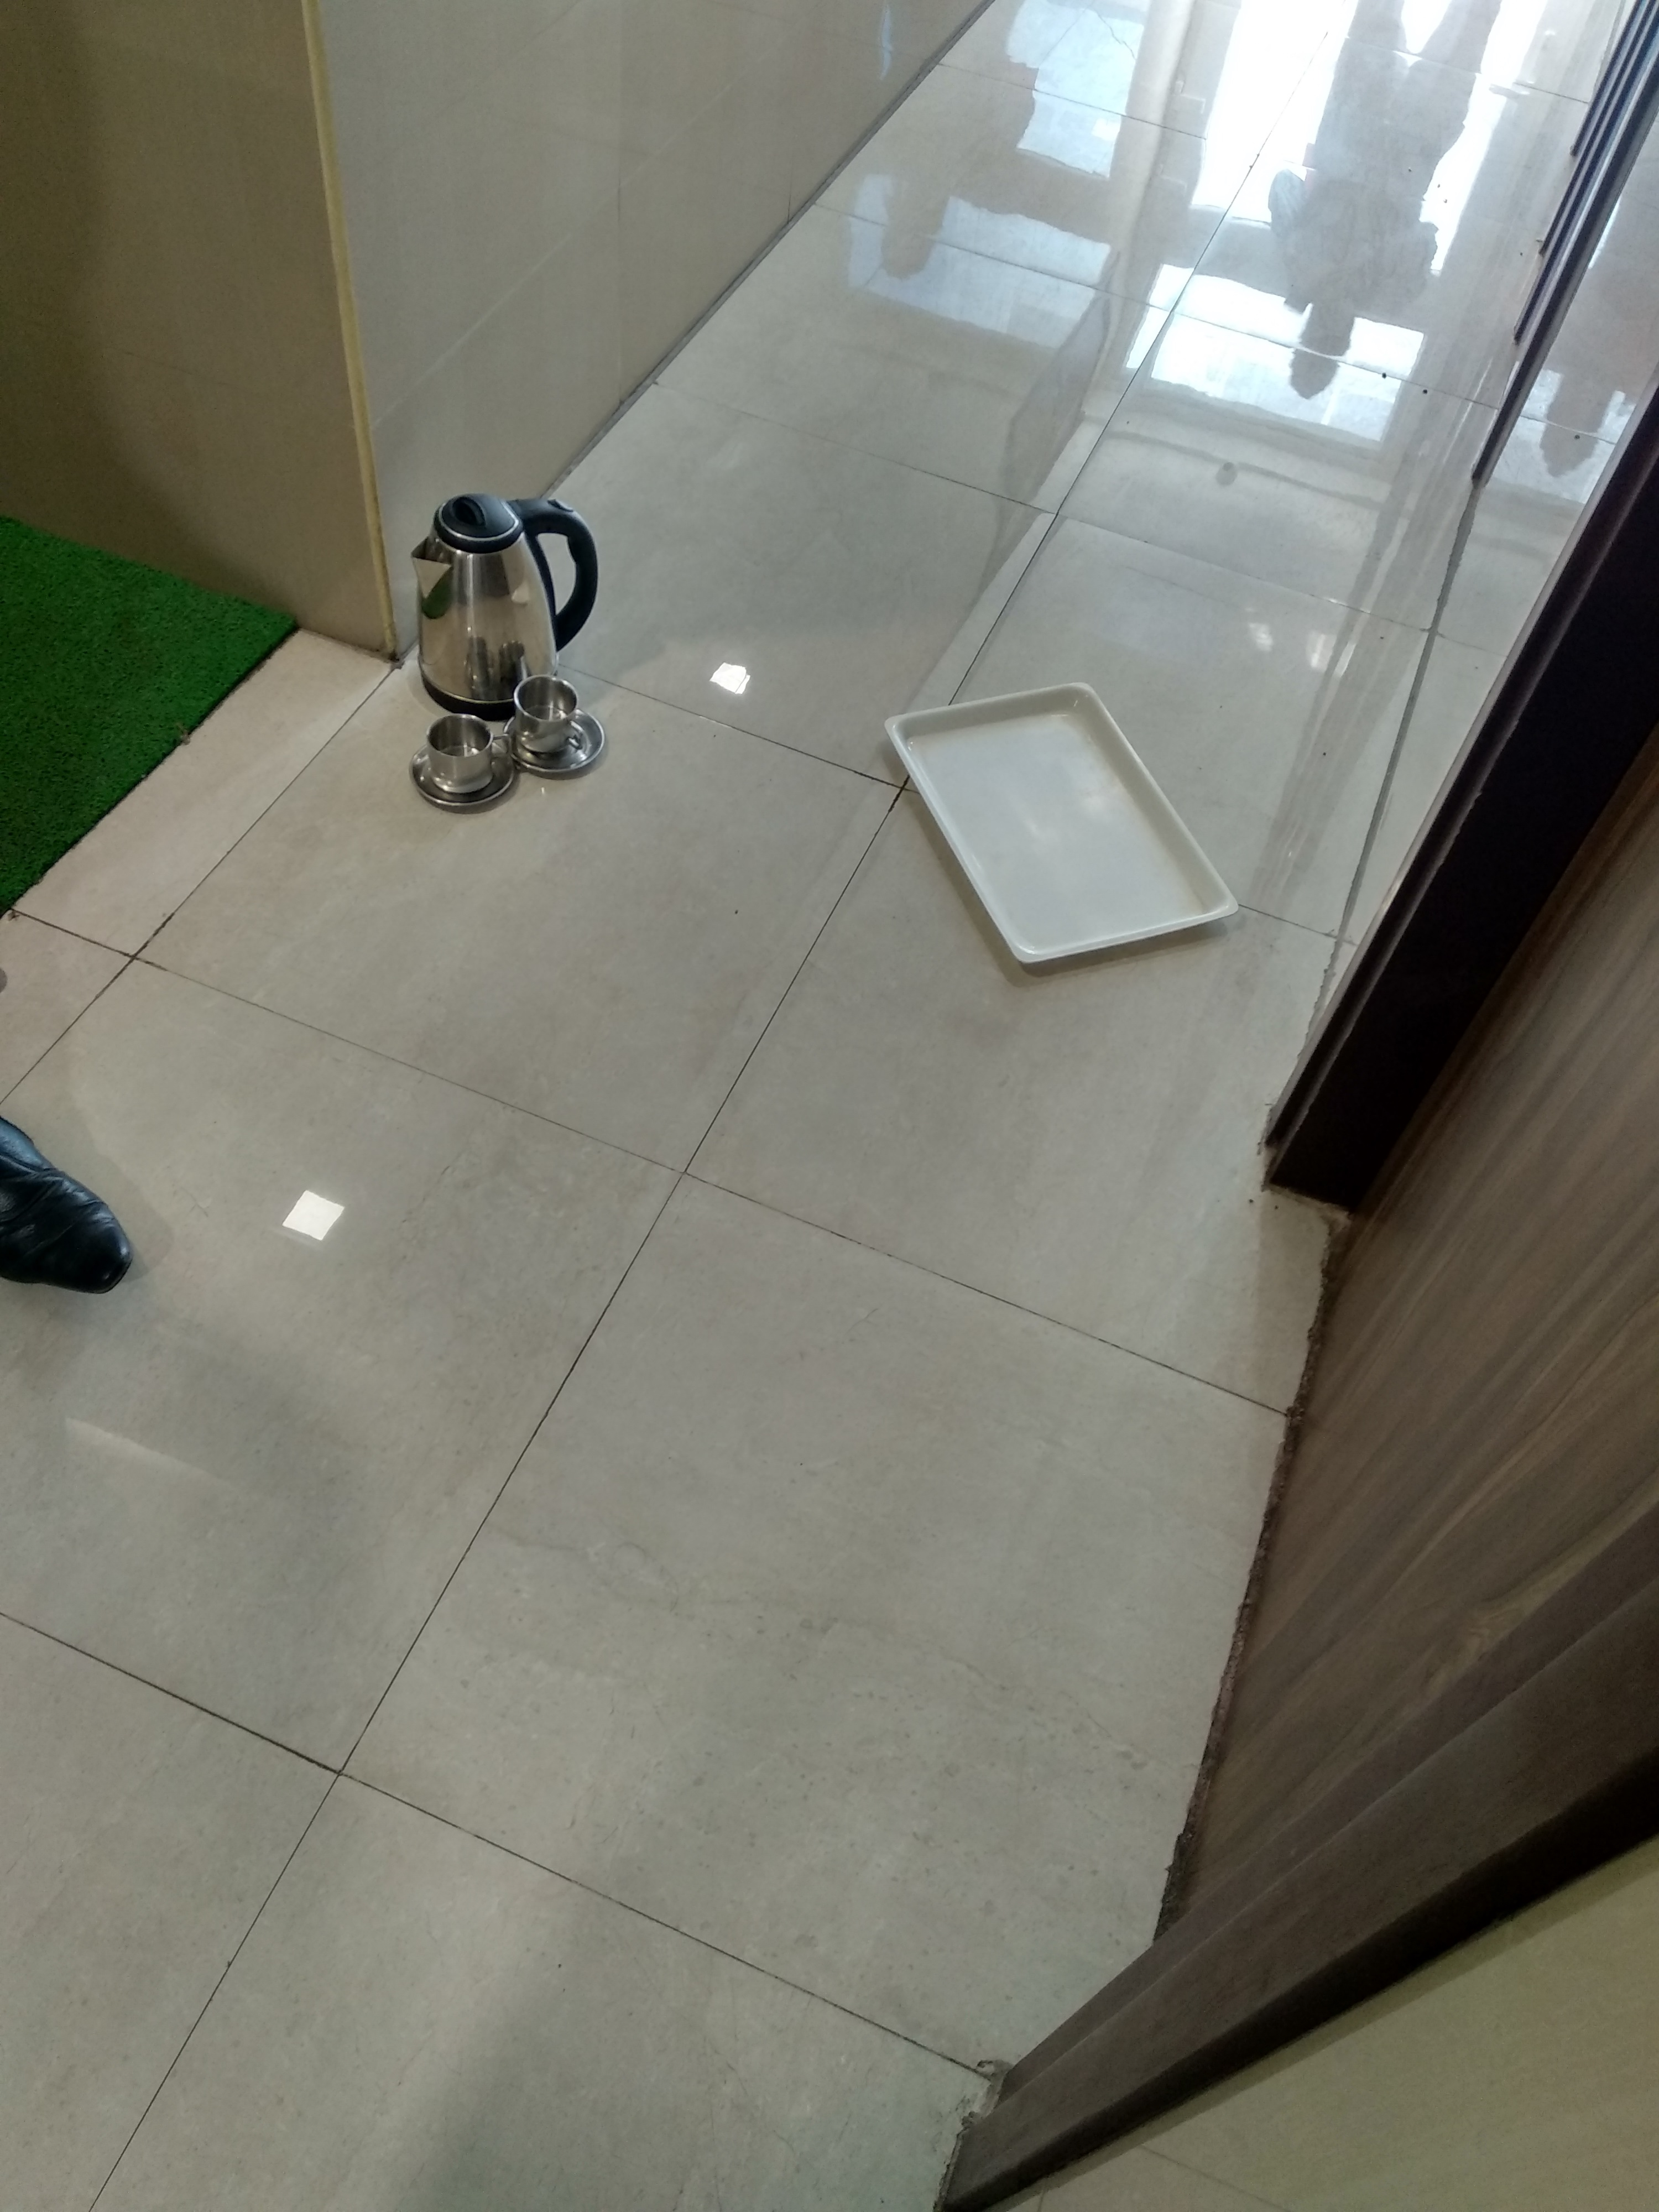CUP: (425, 711, 512, 799), (512, 676, 592, 752)
JUG: (406, 496, 587, 672)
